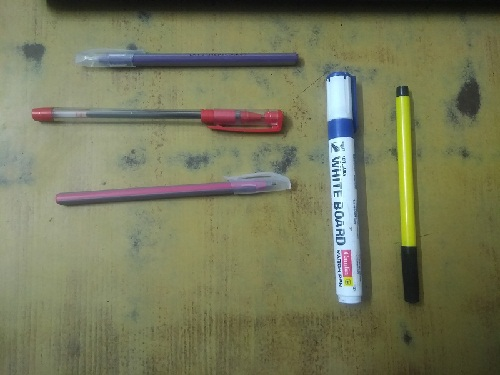pen: (319, 68, 372, 308), (25, 100, 290, 140), (47, 168, 294, 210), (389, 82, 426, 305), (68, 43, 303, 73)
